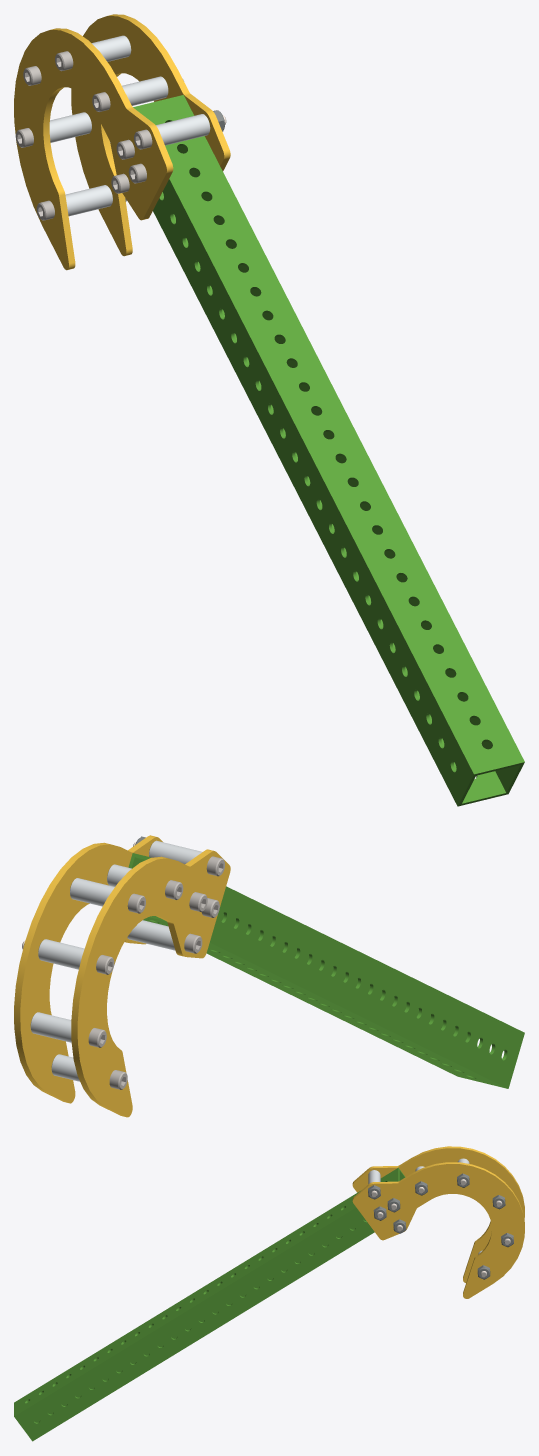
3 views of the same model, one above another, from view 1: azimuth 30°, elevation 25°; view 2: azimuth 150°, elevation 25°; view 3: azimuth 270°, elevation 25° (orthographic). The views are drawn at different scales.
Parts seen in each view (by area): view 1: Tube 1"x1"x14", Part 1 (×2), am-3876 1000long .192ID Aluminum Spacer (×4); view 2: Part 1 (×2), Tube 1"x1"x14", am-3876 1000long .192ID Aluminum Spacer (×7); view 3: Tube 1"x1"x14", Part 1 (×2).
Part boxes in pixels (<box>): Tube 1"x1"x14": <box>133,95,524,806</box>; Part 1 (×2): <box>14,14,230,270</box>; am-3876 1000long .192ID Aluminum Spacer (×4): <box>49,76,210,216</box>; Part 1 (×2): <box>14,835,230,1117</box>; Tube 1"x1"x14": <box>128,853,524,1088</box>; am-3876 1000long .192ID Aluminum Spacer (×7): <box>30,840,202,1081</box>; Tube 1"x1"x14": <box>14,1167,405,1441</box>; Part 1 (×2): <box>352,1146,524,1298</box>.
Size of the model in its own units: 0.0429 by 0.2364 by 0.3918.
